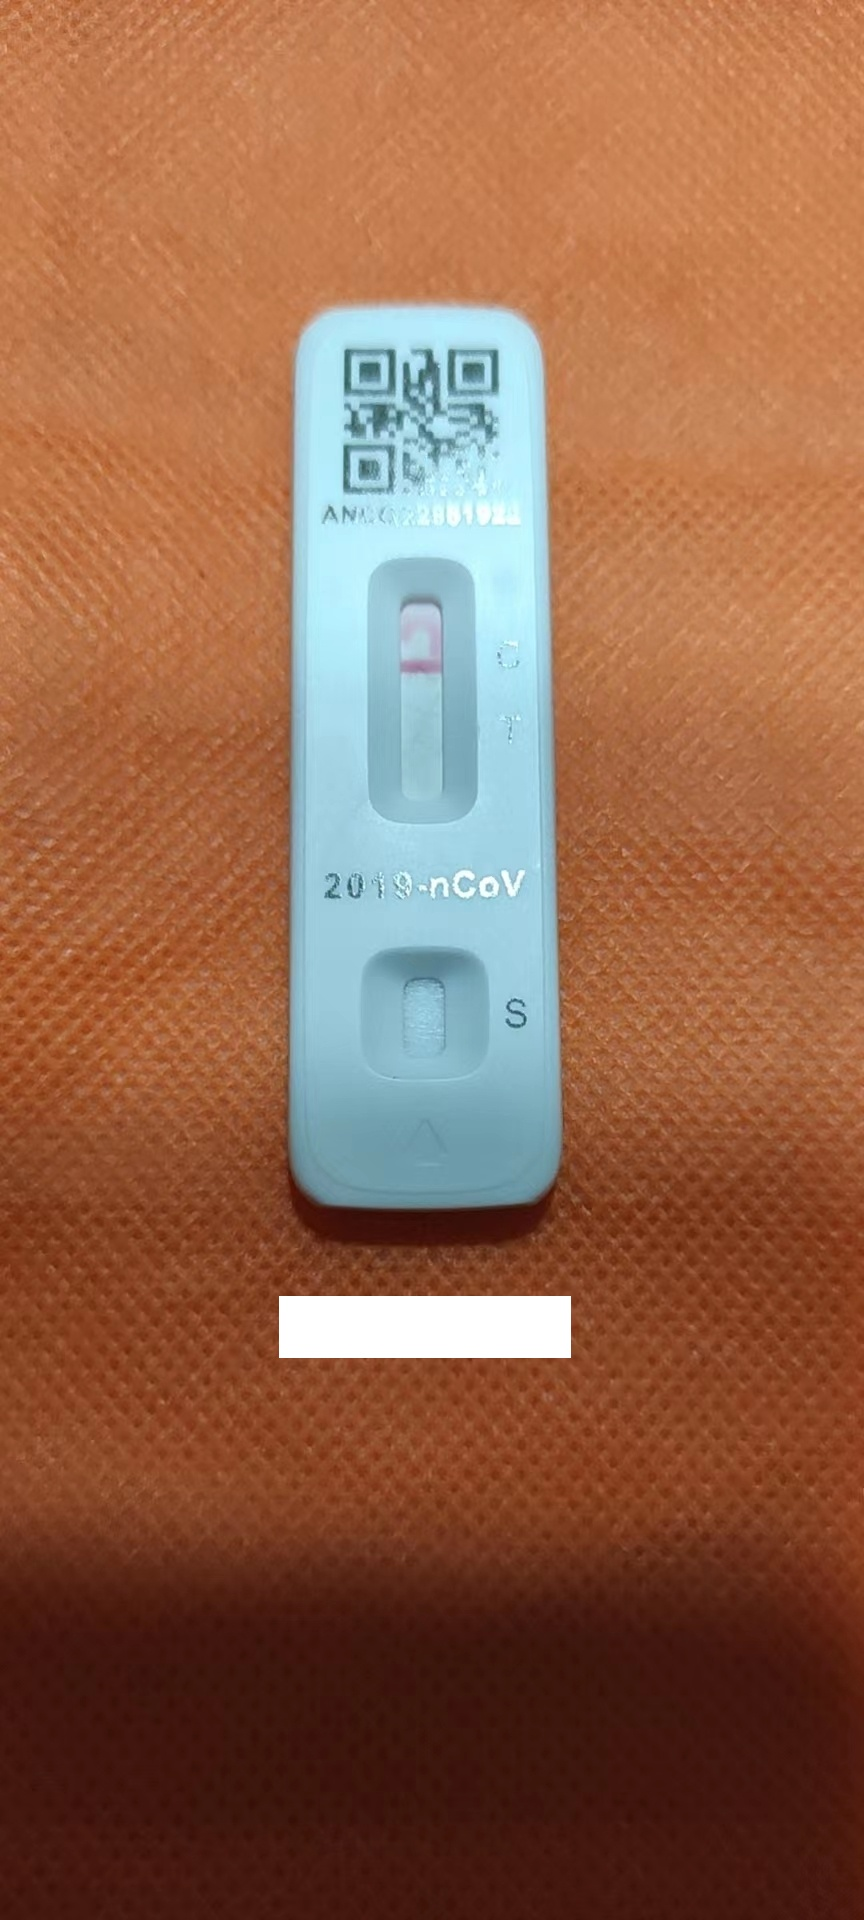negative: (363, 567, 479, 831)
